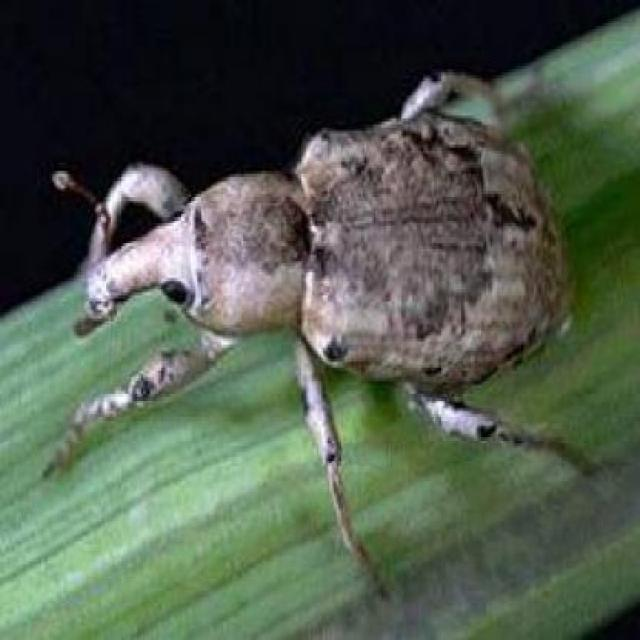rice-bug: (50, 67, 572, 550)
